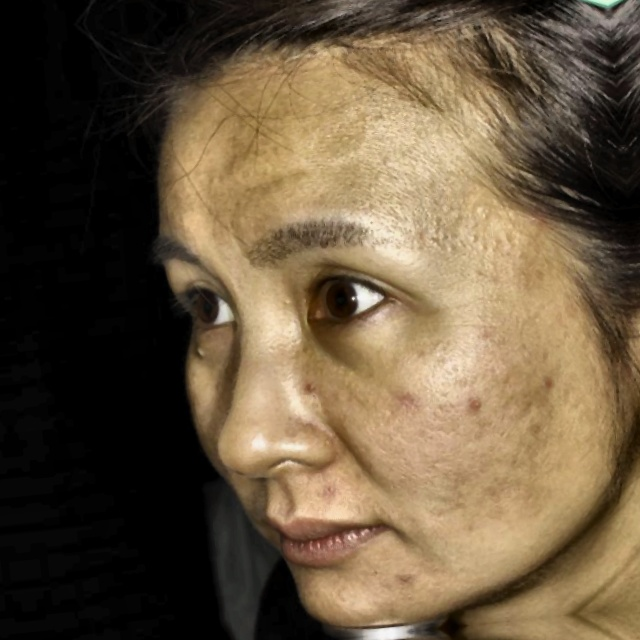comedone: (392, 560, 429, 605), (464, 390, 493, 423)
